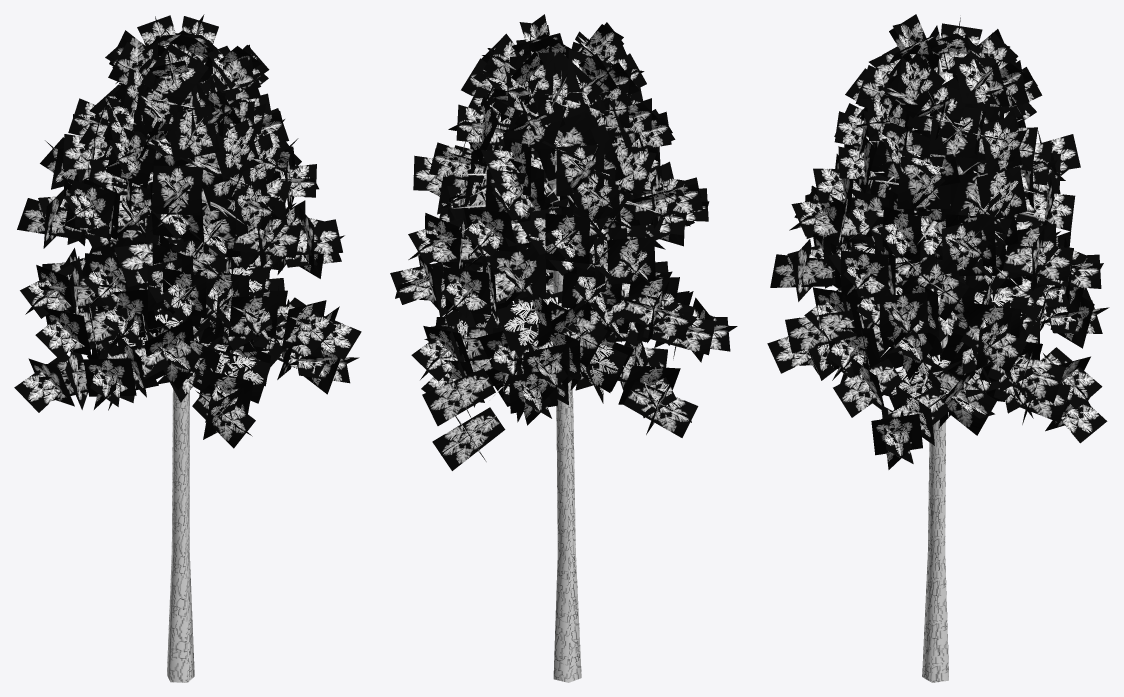
Rendered from Tree_Blender_007_WhitePine.fbx.
3 renders of one model, left to right at view 1: azimuth 30°, elevation 25°; view 2: azimuth 150°, elevation 25°; view 3: azimuth 270°, elevation 25°, orthographic.
Visible parts, largest first — view 1: leafclumpatlas_whitepine_1, pinebarktextureseamless_0; view 2: leafclumpatlas_whitepine_1, pinebarktextureseamless_0; view 3: leafclumpatlas_whitepine_1, pinebarktextureseamless_0.
Part boxes in pixels (x1,y1,x2,y2): leafclumpatlas_whitepine_1: (14,14,361,448); pinebarktextureseamless_0: (138,62,282,682); leafclumpatlas_whitepine_1: (390,14,737,470); pinebarktextureseamless_0: (452,127,663,682); leafclumpatlas_whitepine_1: (767,14,1109,469); pinebarktextureseamless_0: (827,59,1056,682).
Size of the model in its own units: 879 by 1808 by 866.
